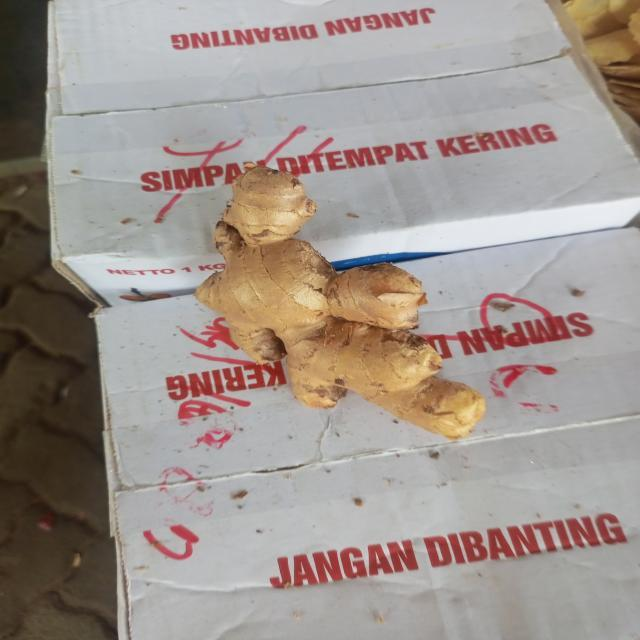ginger: (210, 174, 475, 434)
